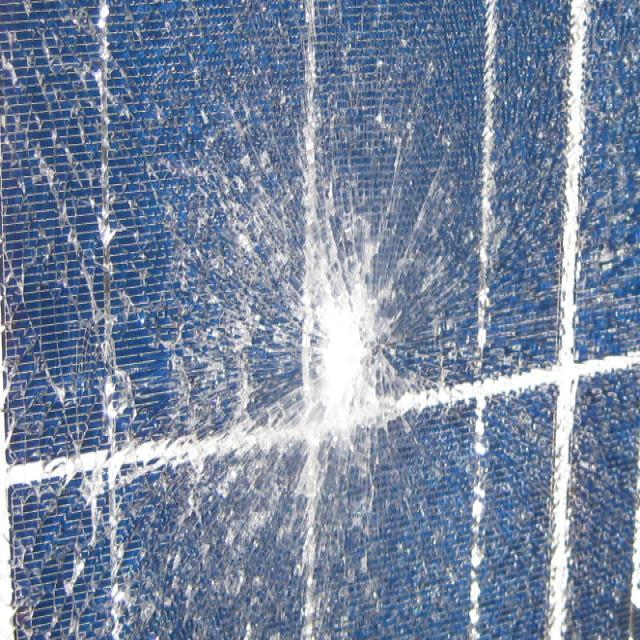Physical-damage: (52, 70, 607, 636)
